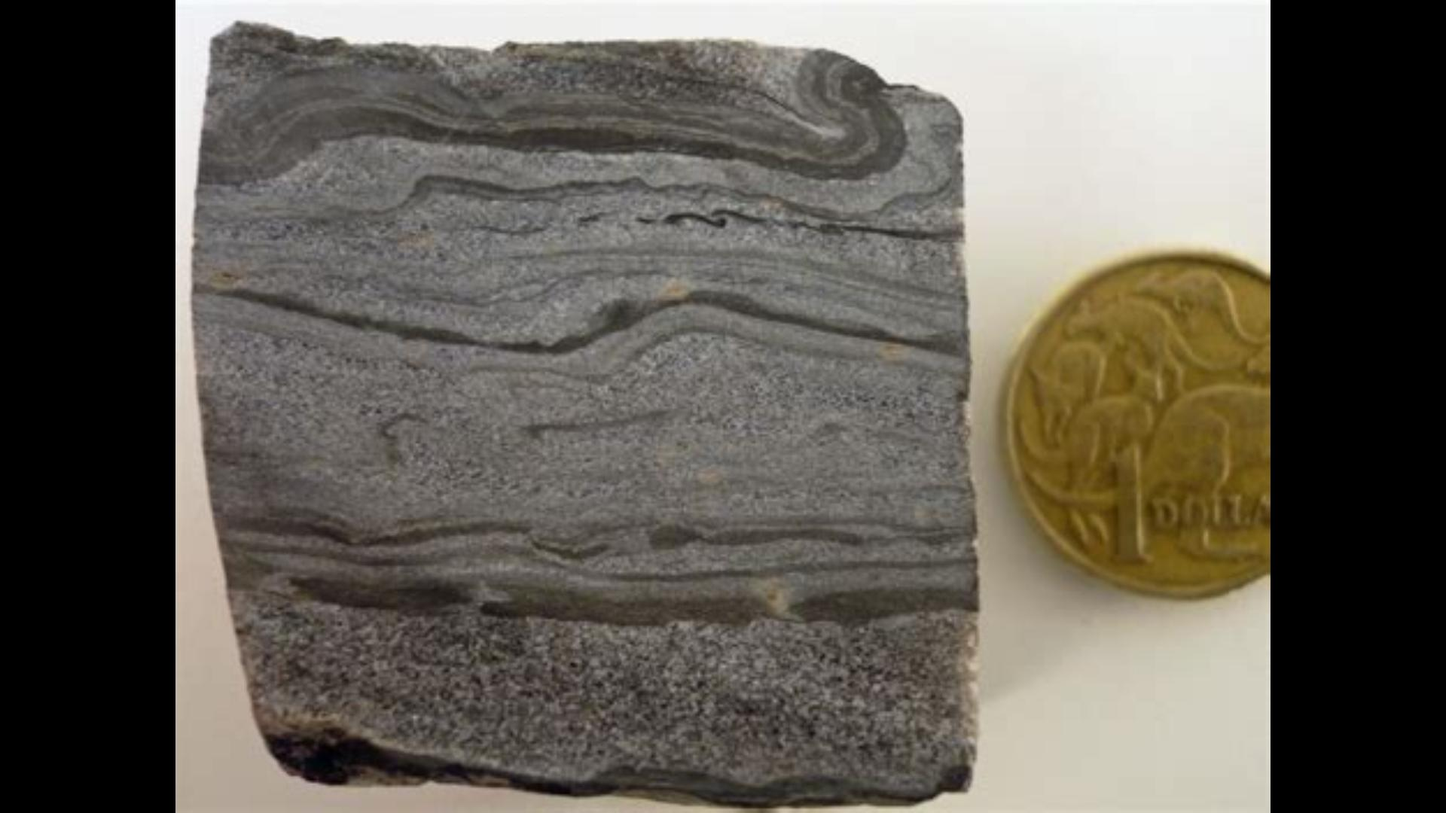rock: (199, 37, 973, 799)
